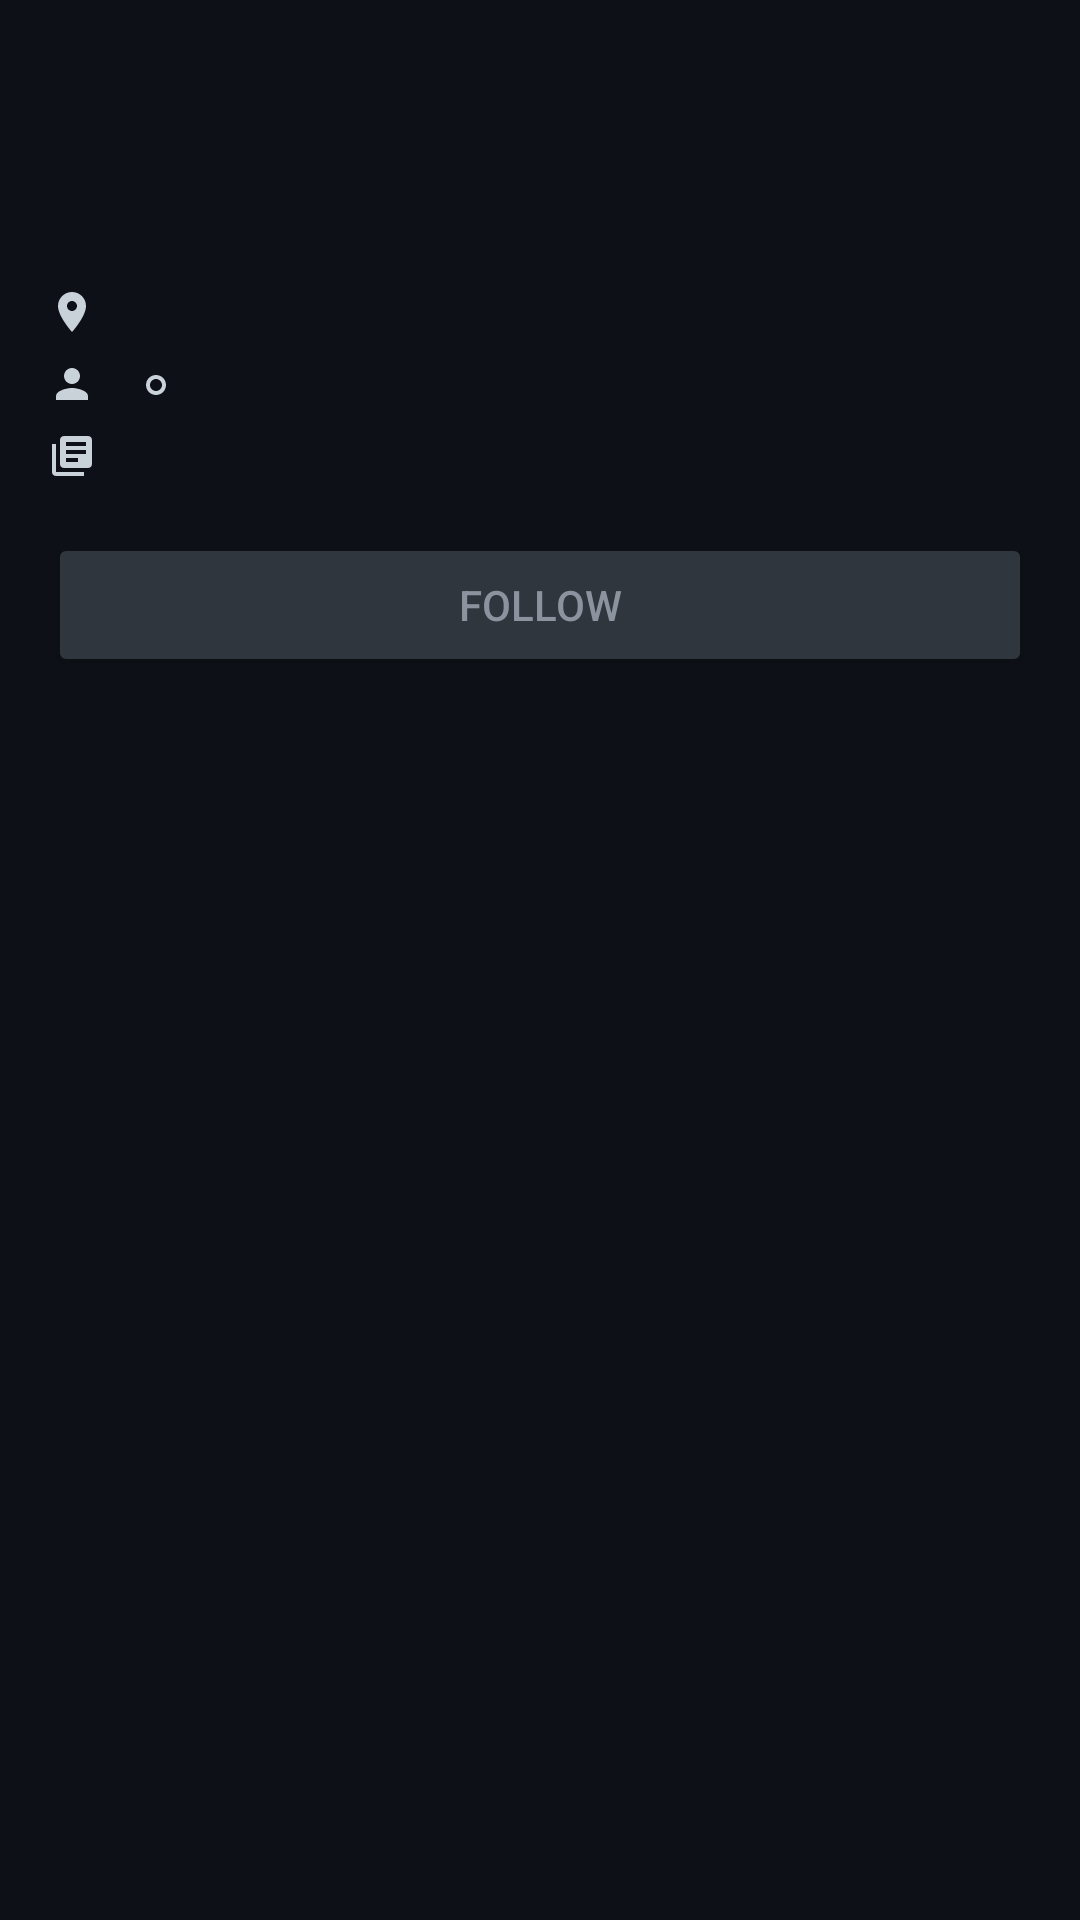

Where to tap for icons on this 1080x1920 app screen, as (x,y):
Location: (72,312)
Repository: (72,456)
